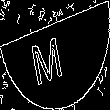M_N: (37, 25, 73, 85)
